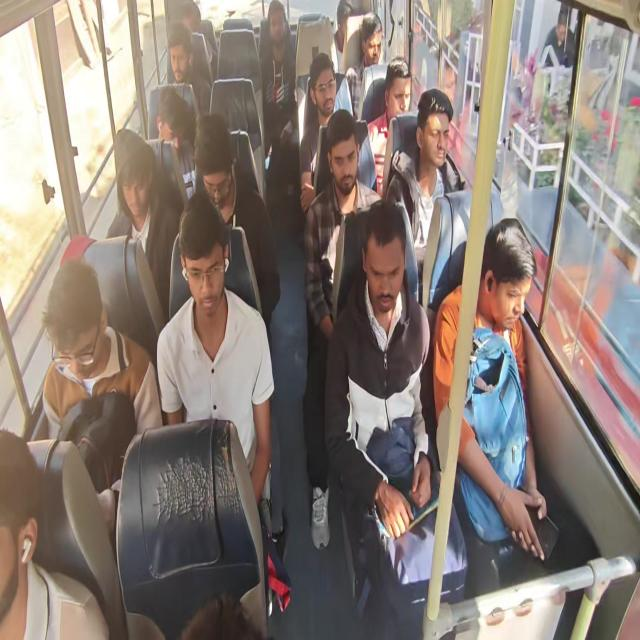person: (324, 200, 468, 638), (156, 191, 275, 535), (432, 217, 547, 561), (302, 108, 383, 549), (41, 258, 162, 534), (0, 428, 110, 638), (192, 113, 280, 343), (385, 87, 459, 295), (106, 128, 178, 321), (299, 52, 338, 215), (366, 56, 412, 194), (259, 0, 296, 156), (155, 85, 196, 196), (166, 22, 211, 116), (345, 12, 383, 119), (168, 0, 216, 84), (180, 592, 264, 639), (540, 7, 576, 69), (332, 0, 353, 74)
